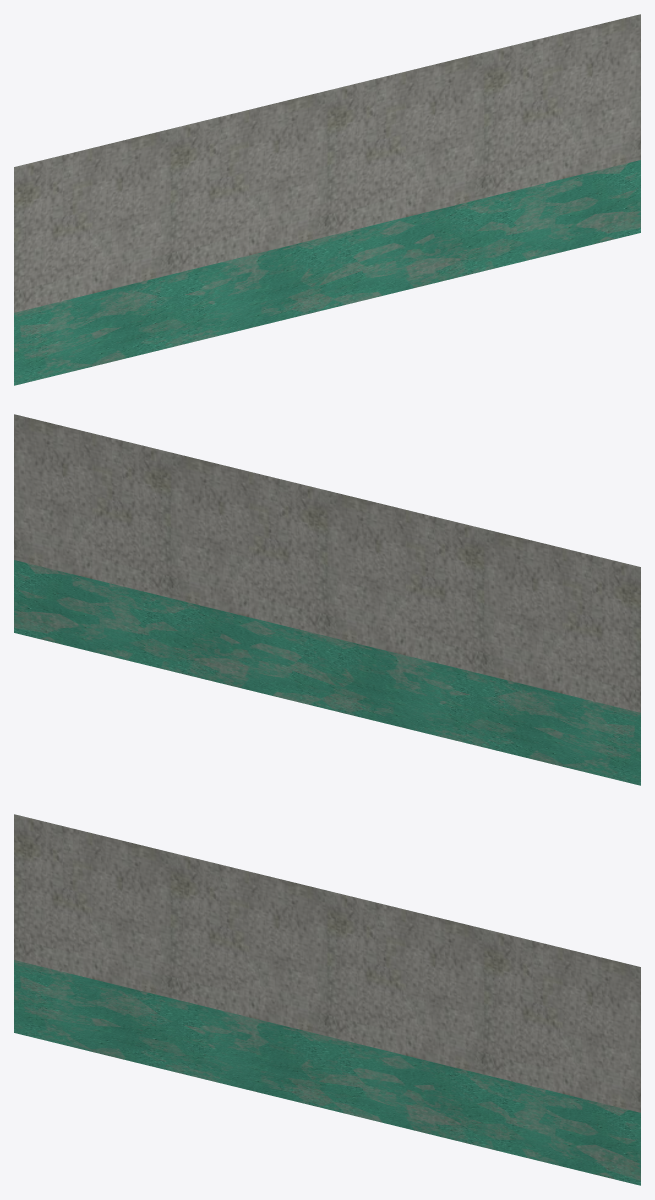
Rendered from wall.12x4_clear.glb.
3 views of the same model, one above another, from view 1: azimuth 30°, elevation 25°; view 2: azimuth 150°, elevation 25°; view 3: azimuth 330°, elevation 25° (orthographic).
Visible parts, largest first — view 1: Plane; view 2: Plane; view 3: Plane.
Part boxes in pixels (left/top/right/bottom): Plane: left=14, top=14, right=640, bottom=385; Plane: left=14, top=414, right=640, bottom=785; Plane: left=14, top=814, right=640, bottom=1185.
Size of the model in its own units: 12 by 4 by 8.74e-08.
Materials: 2 (2 with a texture image).
